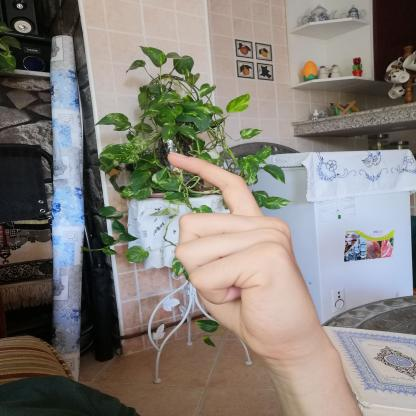RAA: (153, 144, 342, 371)
